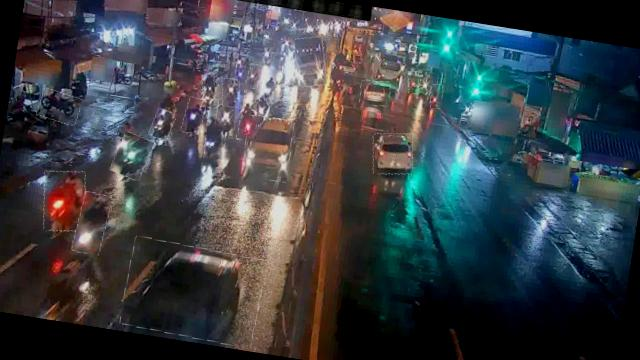Bike: (38, 167, 91, 234), (72, 190, 111, 256), (110, 131, 152, 181), (37, 88, 82, 125), (202, 113, 230, 161), (182, 96, 207, 135), (214, 100, 240, 134), (236, 108, 262, 142), (150, 108, 176, 141), (219, 76, 242, 108), (244, 62, 262, 94), (200, 73, 219, 100), (259, 74, 276, 102), (428, 83, 444, 109), (417, 74, 433, 100), (406, 70, 421, 95), (242, 86, 258, 109), (234, 60, 246, 82)
Car: (119, 236, 267, 347), (241, 114, 296, 183), (369, 128, 417, 178), (358, 79, 392, 108)
Truck: (290, 33, 332, 89)
